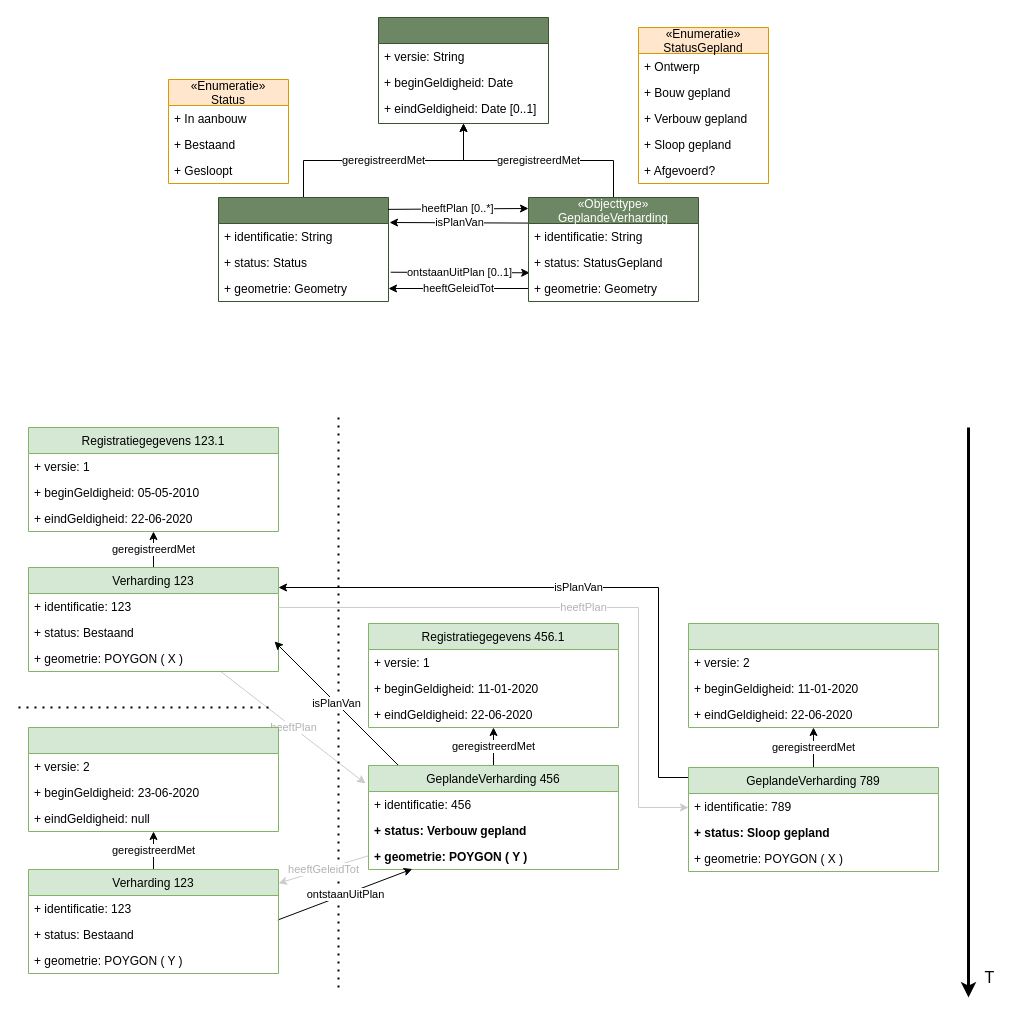
Image size: 1011x1024. Some labels were removed from this diagram. Each missing label, with the box of its shape:
Registratiegegevens 123.2: (28, 726, 278, 832)
Registratiegegevens 789.2: (688, 622, 938, 728)
«Metadata» Registratiegegevens: (378, 16, 548, 124)
«Objecttype» Verharding: (218, 196, 388, 302)
